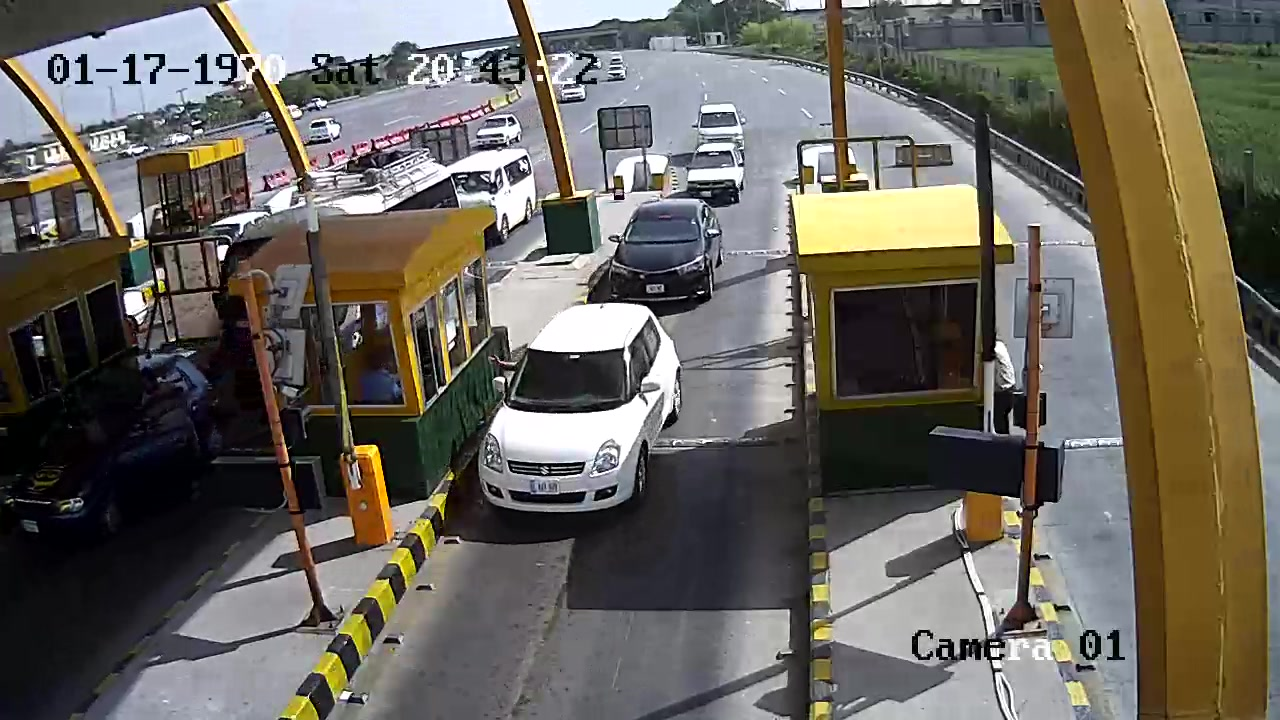F1: (470, 301, 674, 522), (601, 196, 729, 302)
